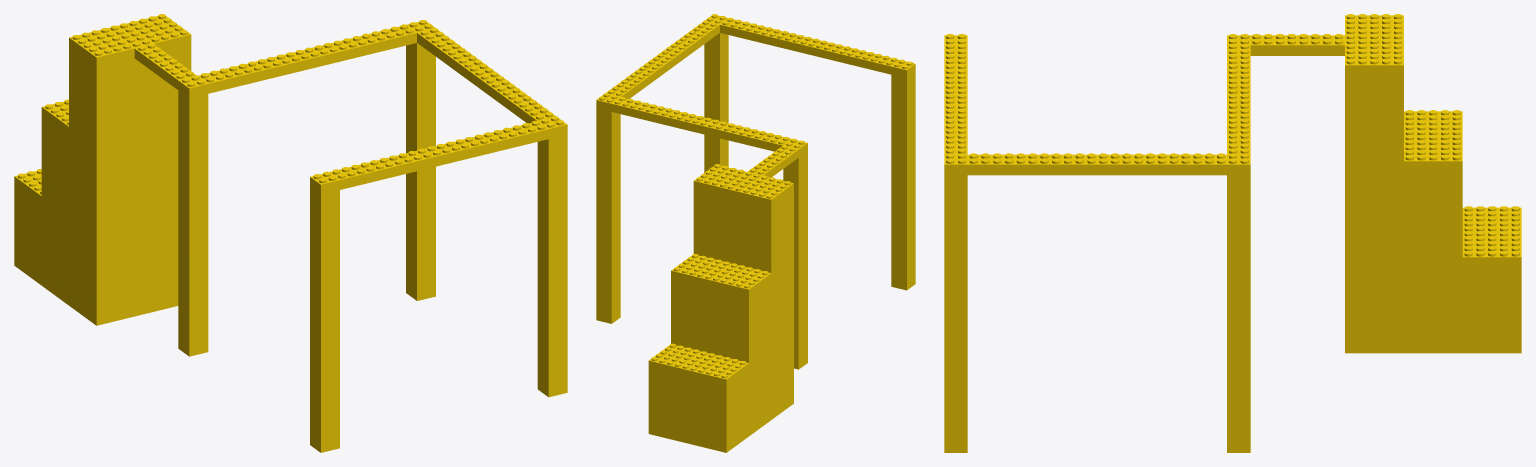
The model's file is lego-helicopter-obstacle.glb.
3 views of the same model, side by side, from view 1: azimuth 30°, elevation 25°; view 2: azimuth 150°, elevation 25°; view 3: azimuth 270°, elevation 25° (orthographic). The views are drawn at different scales.
Parts seen in each view (by area): view 1: Platform; view 2: Platform; view 3: Platform.
Boxes of the visible parts, x1,y1,x2,y2 form: Platform: [14, 16, 567, 452]; Platform: [596, 15, 915, 452]; Platform: [944, 15, 1521, 452].
Size of what is drawn, in the model's own units: 6 by 5.44 by 9.8.
